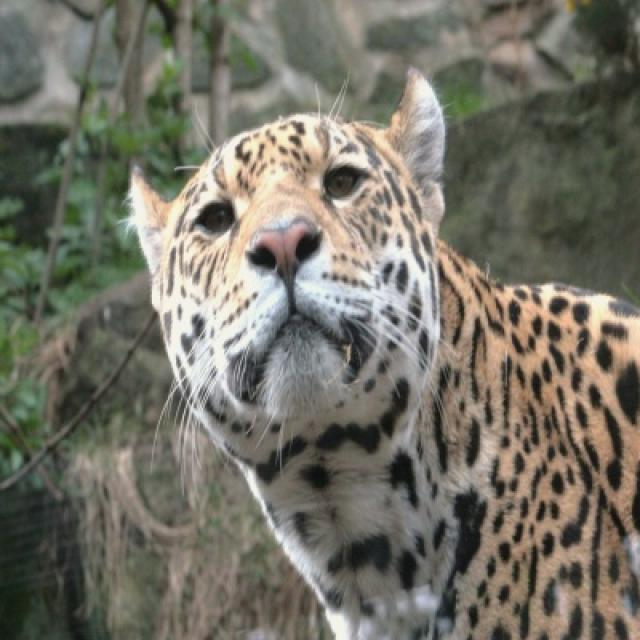Jaguar: (130, 67, 638, 638)
